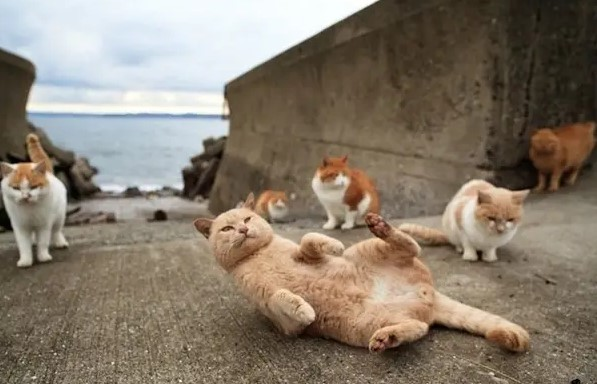cat: (194, 191, 531, 358), (1, 132, 70, 268), (441, 178, 531, 263), (312, 154, 379, 230), (529, 120, 596, 194), (237, 190, 290, 225)
